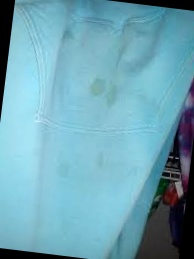mustard: (102, 85, 119, 109), (89, 79, 105, 95), (58, 162, 71, 180), (96, 151, 105, 167)
